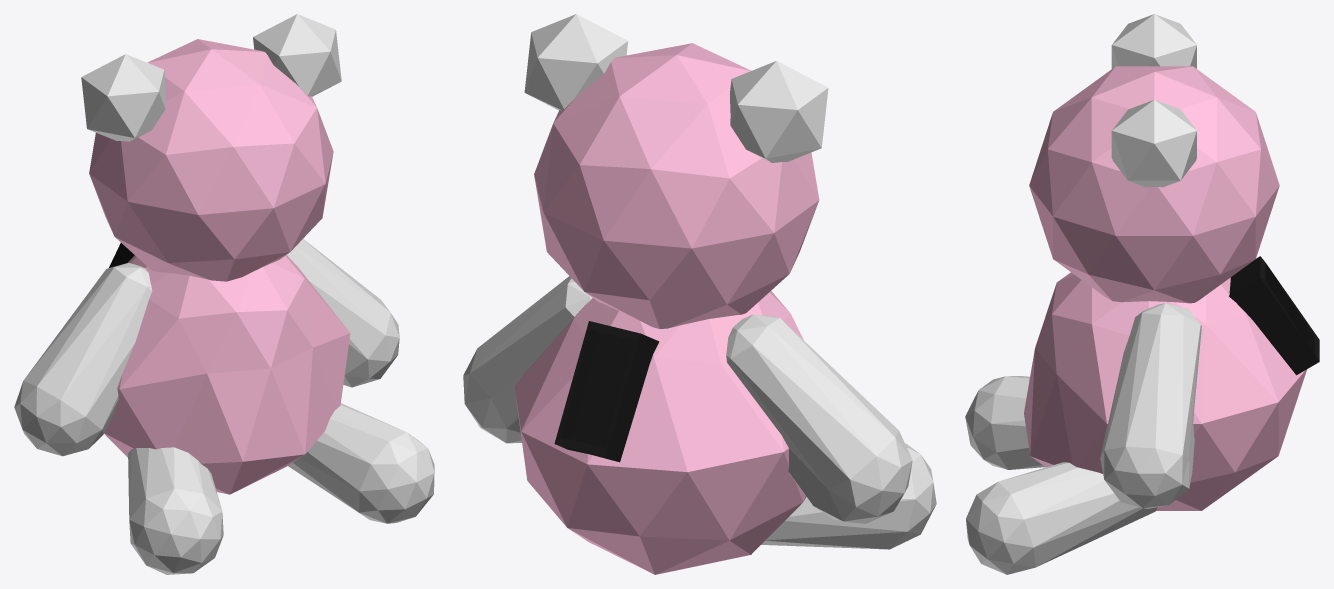
File: Doll.fbx
The picture shows the model from 3 angles, left to right: view 1: azimuth 30°, elevation 25°; view 2: azimuth 150°, elevation 25°; view 3: azimuth 270°, elevation 25°; orthographic projection. The views are drawn at different scales.
Visible parts, largest first — view 1: Icosphere, Icosphere.003, Icosphere.004, Icosphere.006, Icosphere.007, Icosphere.005, Icosphere.002, Icosphere.001; view 2: Icosphere, Icosphere.003, Icosphere.004, Cube, Icosphere.005, Icosphere.002, Icosphere.007, Icosphere.001; view 3: Icosphere, Icosphere.003, Icosphere.005, Icosphere.006, Icosphere.001, Cube, Icosphere.007, Icosphere.002.
Part boxes in pixels (x1=…): Icosphere: x1=89, y1=39, x2=333, y2=281; Icosphere.003: x1=104, y1=255, x2=350, y2=494; Icosphere.004: x1=14, y1=262, x2=152, y2=456; Icosphere.006: x1=288, y1=403, x2=434, y2=523; Icosphere.007: x1=128, y1=447, x2=223, y2=574; Icosphere.005: x1=287, y1=239, x2=399, y2=387; Icosphere.002: x1=81, y1=54, x2=165, y2=141; Icosphere.001: x1=253, y1=14, x2=341, y2=96; Icosphere: x1=534, y1=43, x2=819, y2=328; Icosphere.003: x1=514, y1=291, x2=806, y2=574; Icosphere.004: x1=726, y1=314, x2=912, y2=523; Cube: x1=554, y1=321, x2=659, y2=462; Icosphere.005: x1=463, y1=276, x2=592, y2=443; Icosphere.002: x1=729, y1=61, x2=828, y2=162; Icosphere.007: x1=761, y1=443, x2=936, y2=549; Icosphere.001: x1=524, y1=14, x2=628, y2=110; Icosphere: x1=1029, y1=66, x2=1279, y2=303; Icosphere.003: x1=1024, y1=272, x2=1306, y2=510; Icosphere.005: x1=1100, y1=303, x2=1201, y2=508; Icosphere.006: x1=966, y1=462, x2=1157, y2=574; Icosphere.001: x1=1111, y1=100, x2=1196, y2=187; Cube: x1=1229, y1=256, x2=1319, y2=375; Icosphere.007: x1=965, y1=376, x2=1044, y2=469; Icosphere.002: x1=1111, y1=14, x2=1196, y2=68.
Size of the model in its own units: 257 by 305 by 212.
